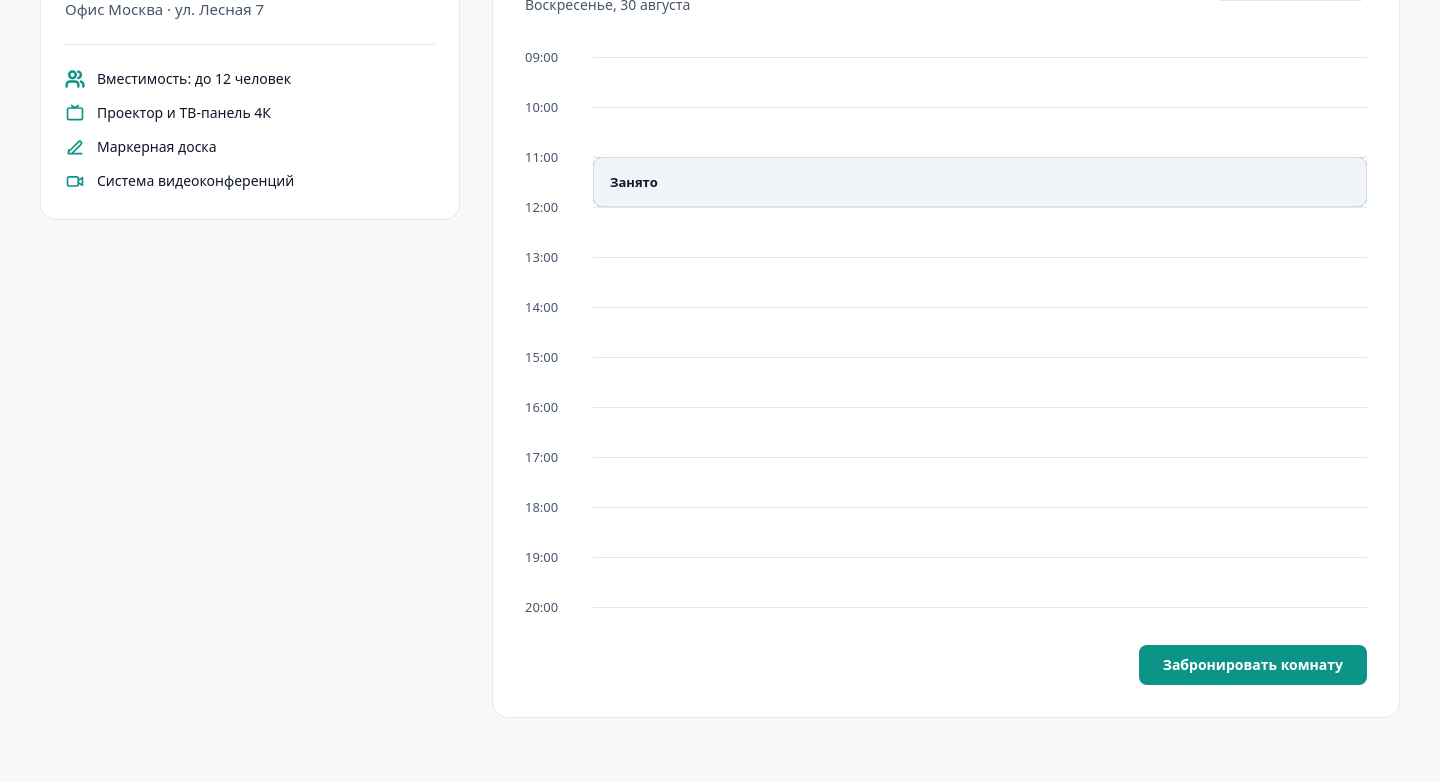
Scenario: RoomPage › обрабатывает 409 и сохраняет введённые данные
This screenshot has width=1440, height=782.
(page scrolled)
Click the button "Забронировать комнату": coordinates (1253, 665) [1139,645,1367,685]
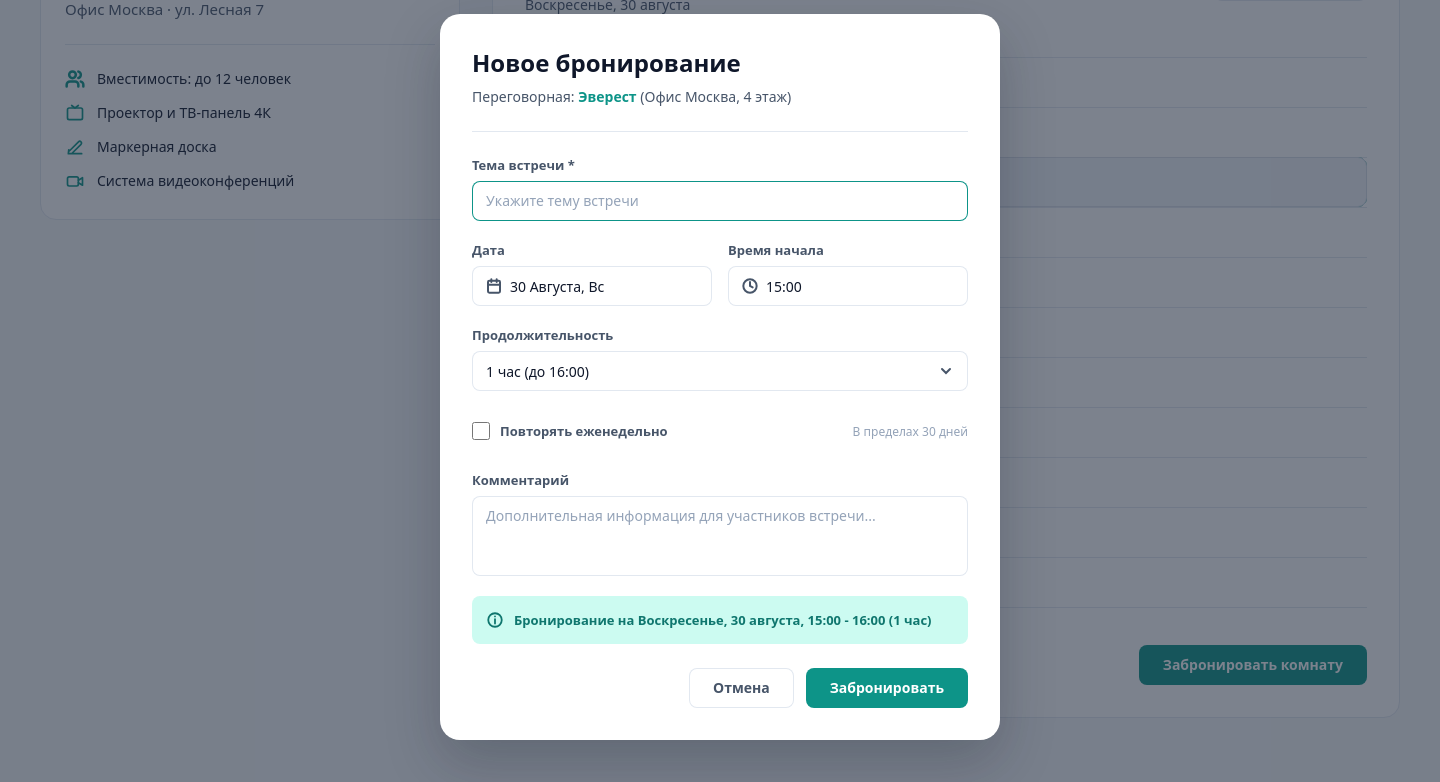
In the field labelled "Тема встречи *": coordinates (720, 201) [472,181,968,221], type "Планирование"
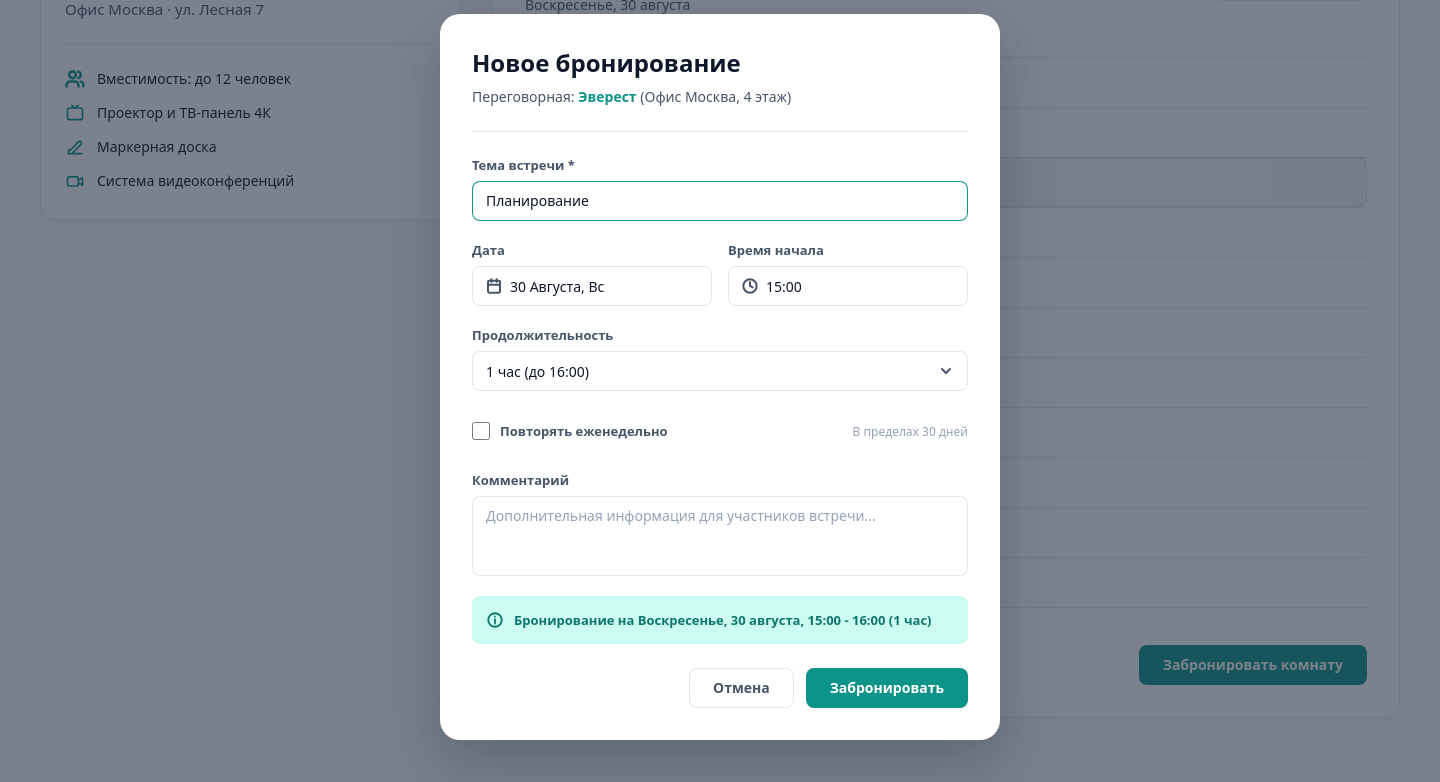
Click the button "Забронировать": coordinates (887, 688) [806,668,968,708]
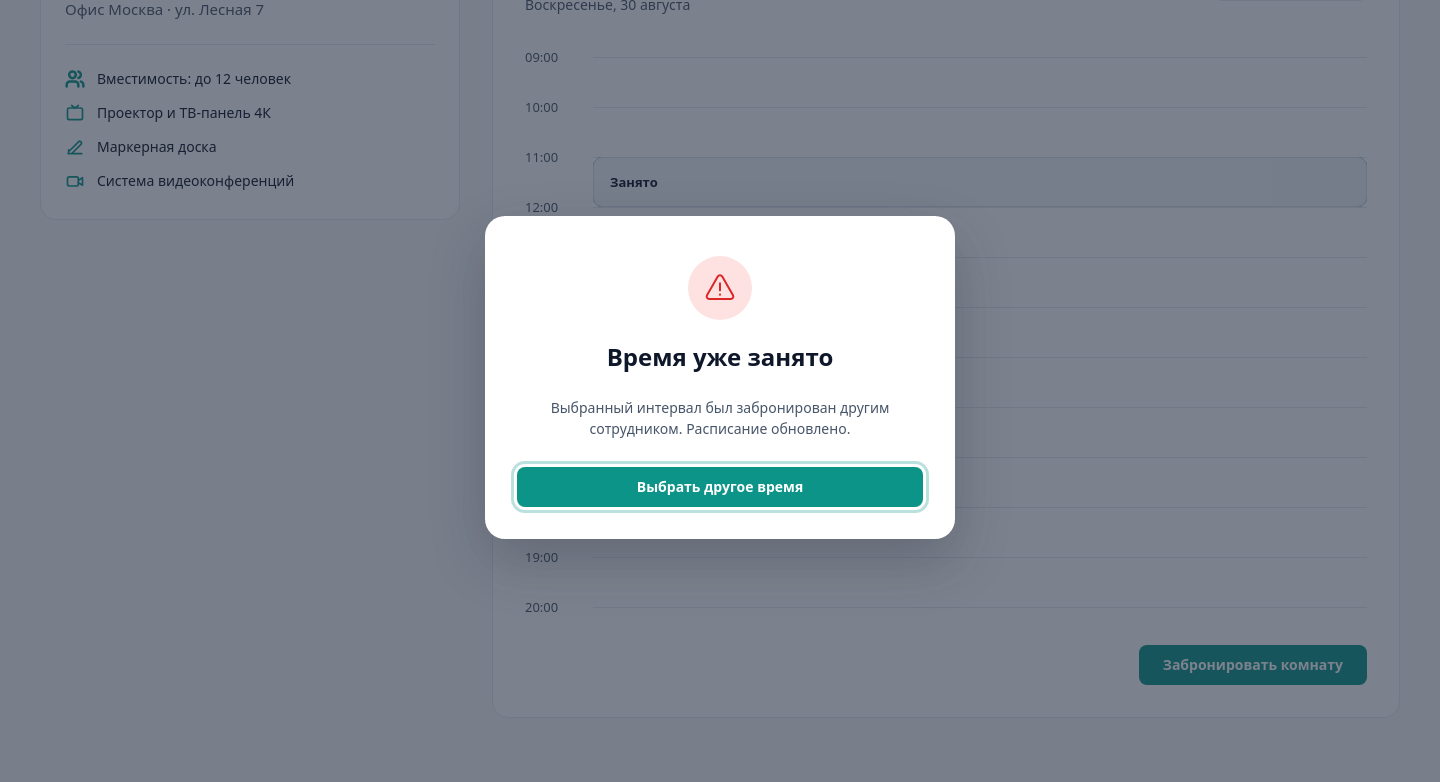
Expected: the message shows "Время уже занято", [607,340,833,372]
Click the button "Выбрать другое время": coordinates (720, 486) [517,466,923,506]
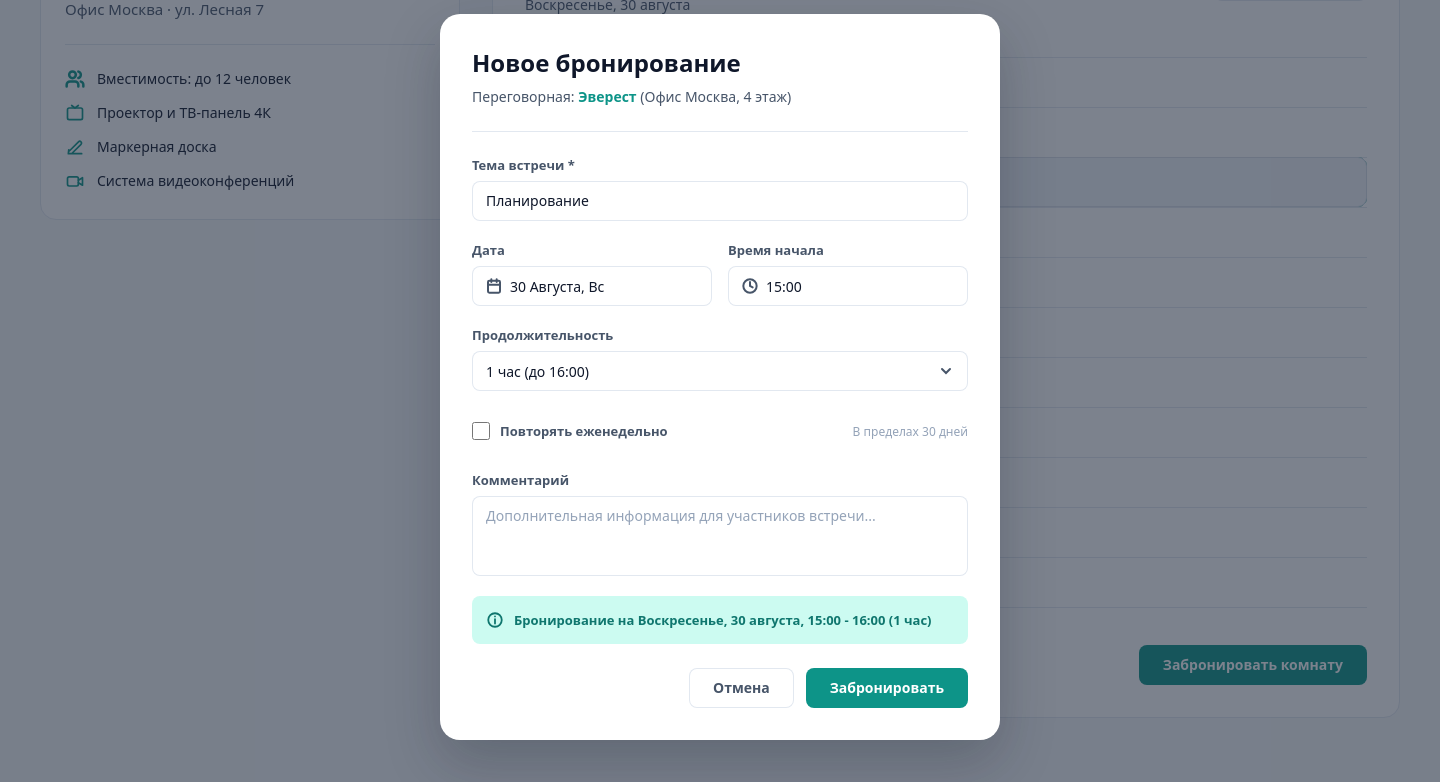
Expected: the dialog "Новое бронирование" is shown, [440,14,1000,740]
Expected: the field labelled "Тема встречи *" holds "Планирование", [472,181,968,221]
